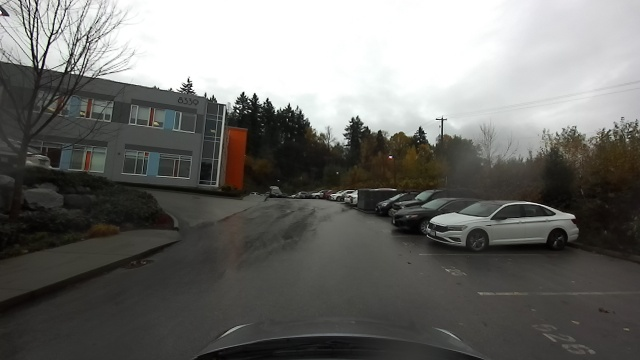car: (423, 197, 581, 255), (389, 193, 472, 224), (373, 188, 426, 219), (269, 185, 283, 199), (346, 192, 356, 206), (330, 191, 344, 201), (293, 192, 308, 199), (311, 191, 324, 198)
